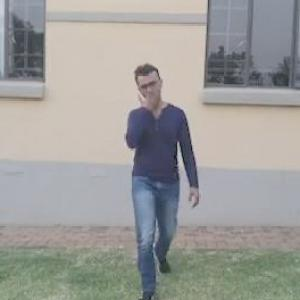follow: (121, 65, 186, 275)
